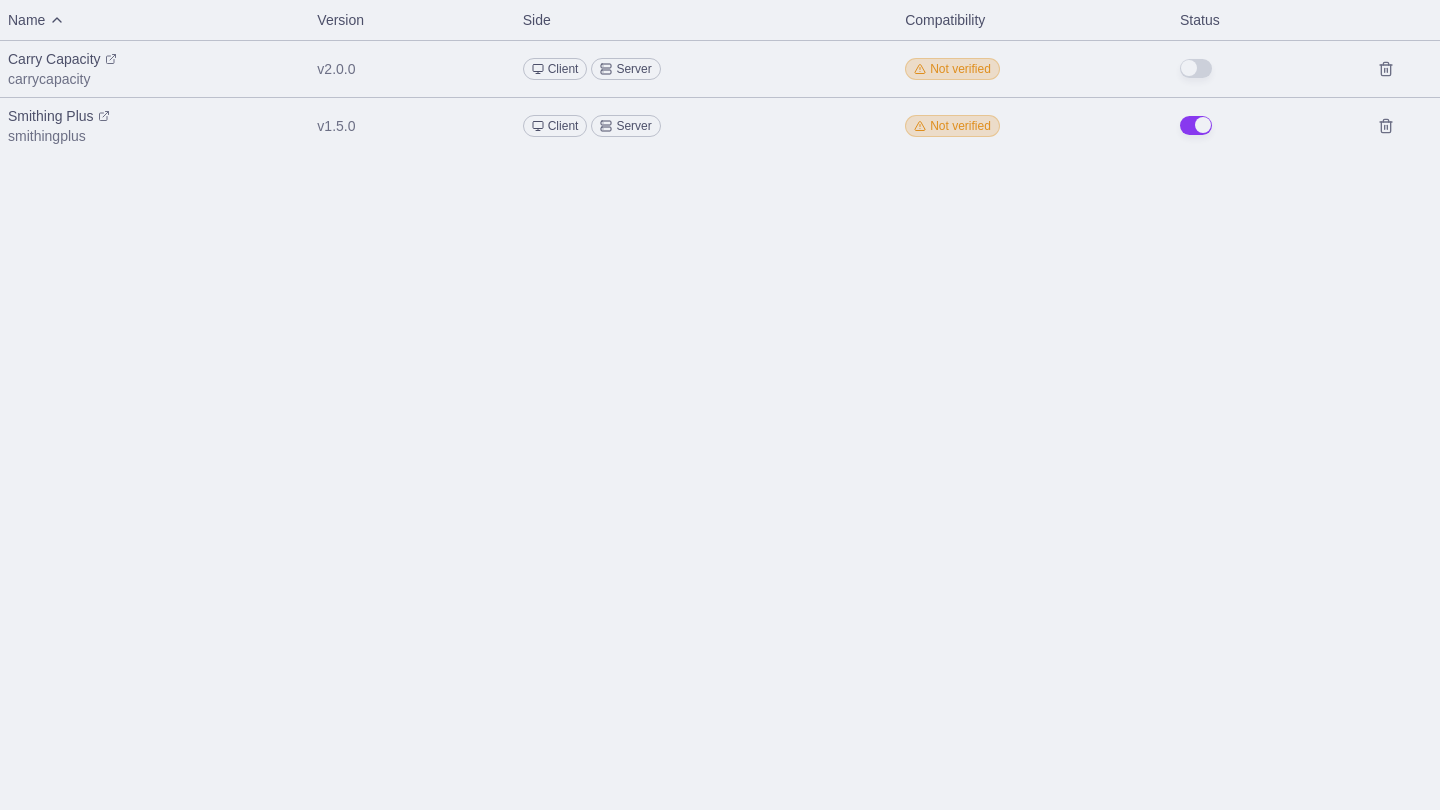
Test: ModTable › remove mod (AC: 8) › closes dialog when cancel is clicked
Click the button with test id "mod-remove-smithingplus". click: (1386, 126)
box: [1368,108,1404,144]
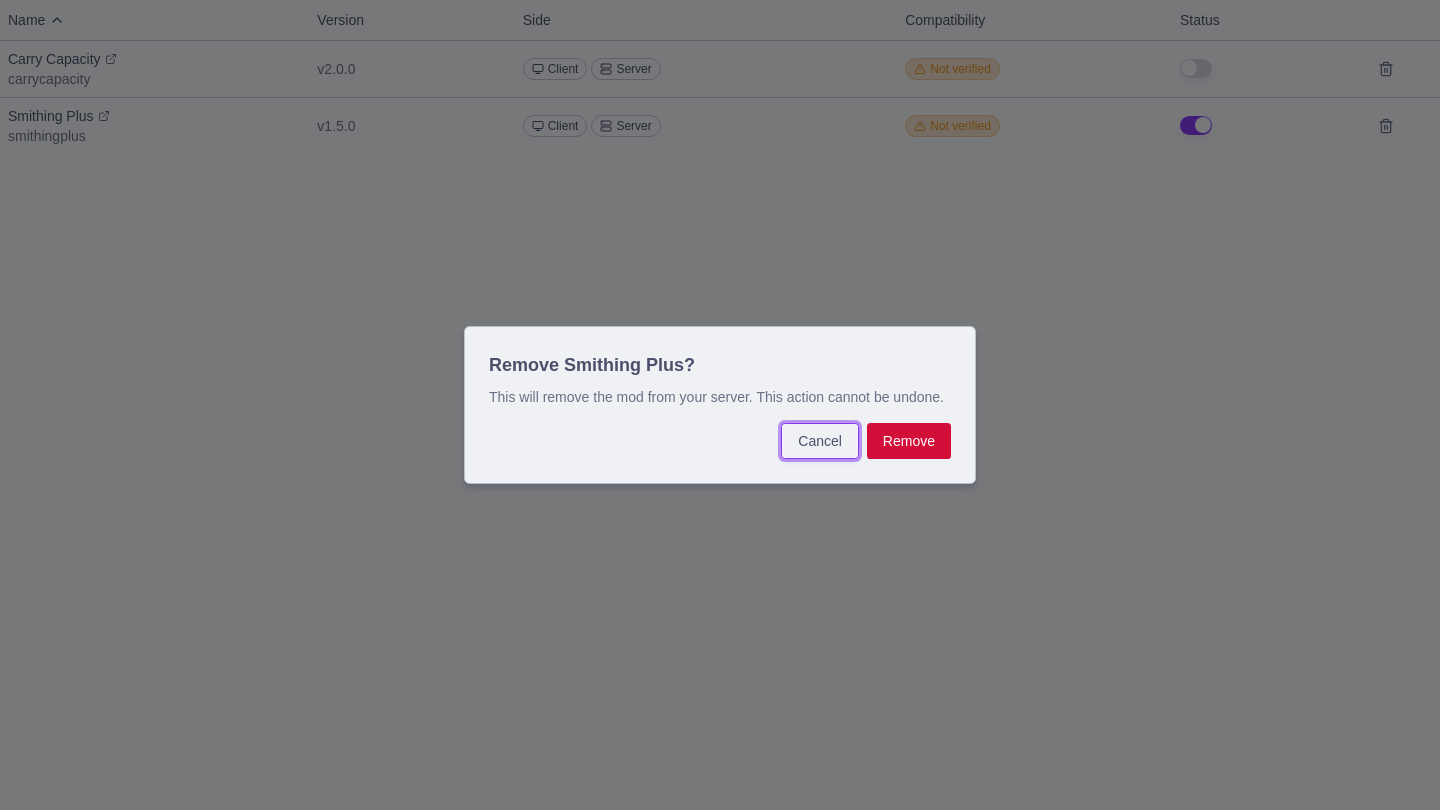
Now the dialog with test id "remove-dialog" is shown, box [464,326,976,484]
Click the button with test id "remove-dialog-cancel". click: (820, 441)
box: [781,423,859,459]
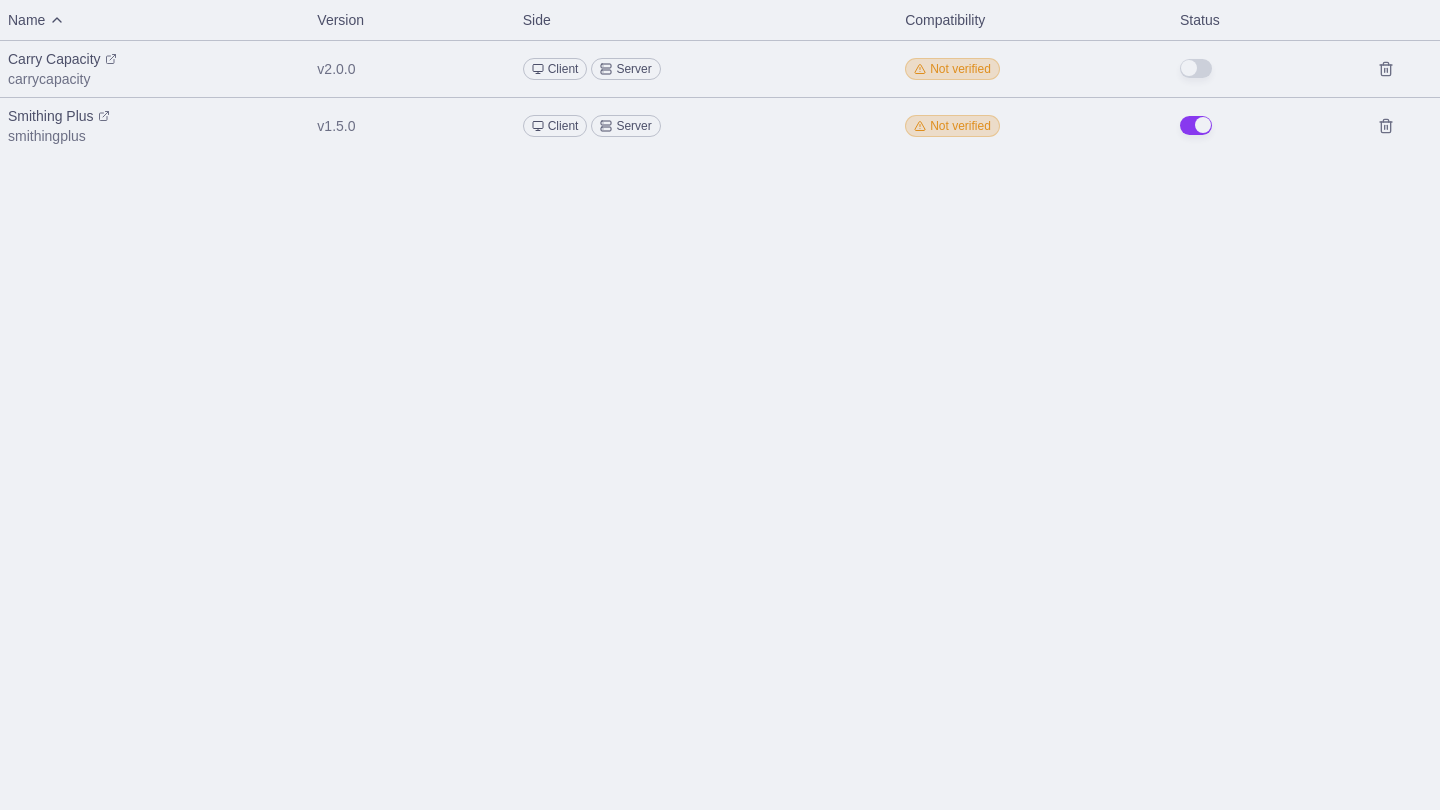
Now the dialog with test id "remove-dialog" is gone
